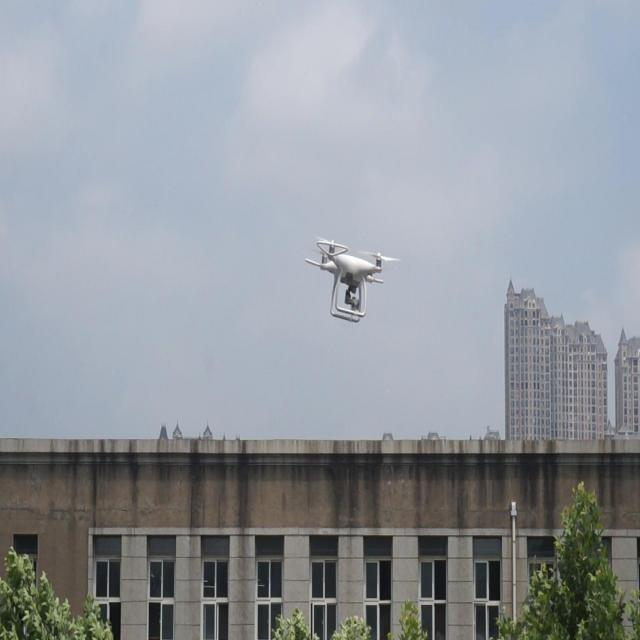UAV: (304, 234, 402, 323)
